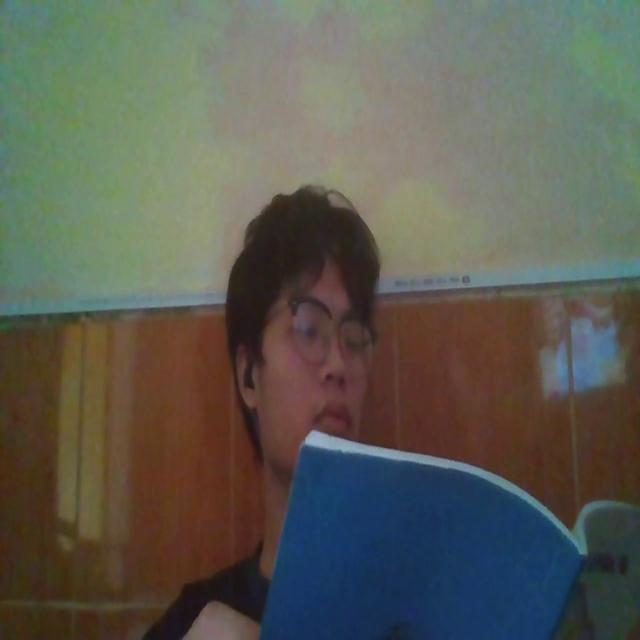book: (260, 420, 640, 639)
student: (144, 166, 382, 640)
